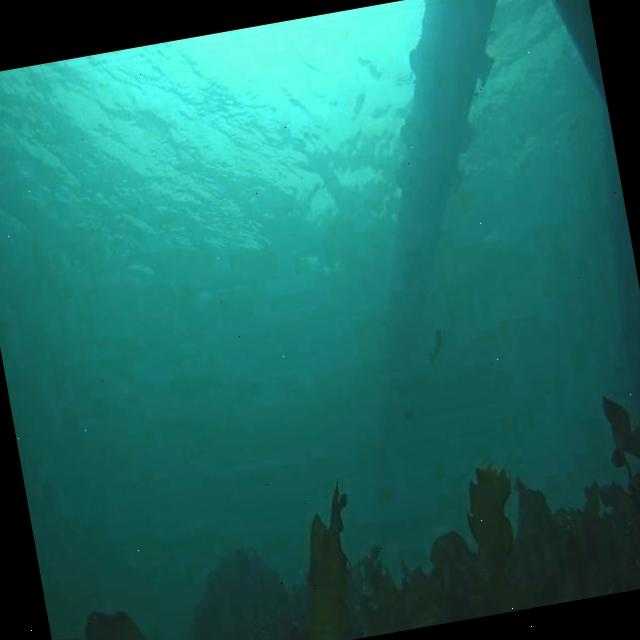fish: (423, 325, 447, 364), (399, 404, 417, 424)
